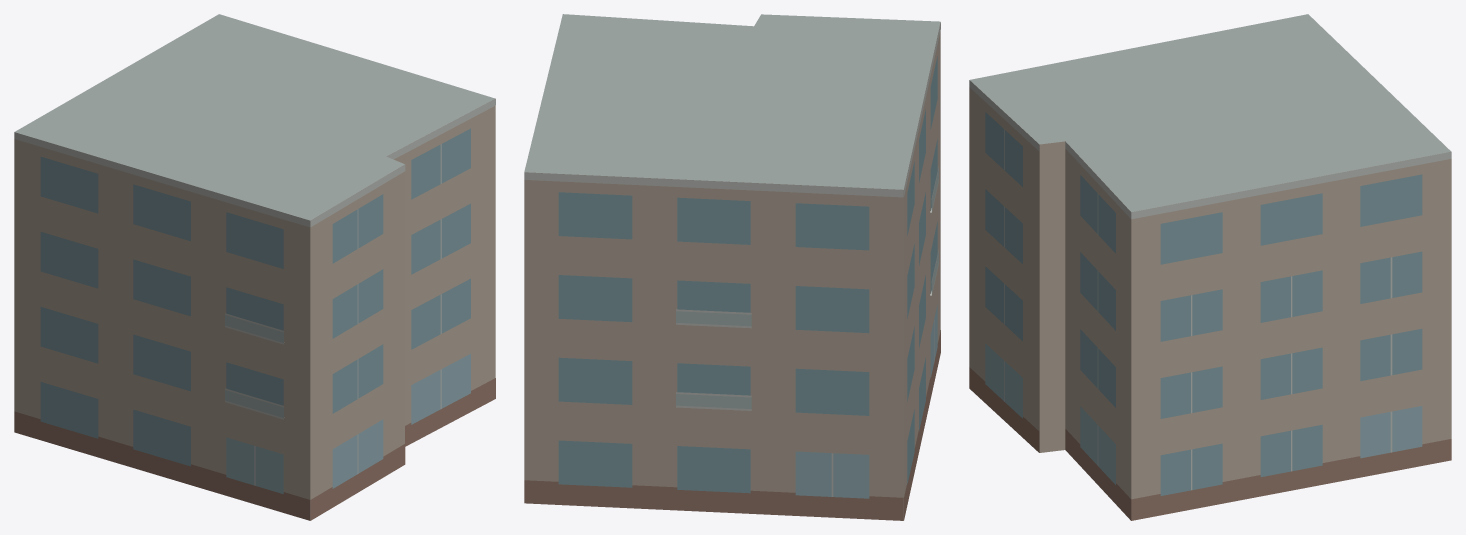
File: survey-upis-32679459.glb
The picture shows the model from 3 angles, left to right: view 1: azimuth 30°, elevation 25°; view 2: azimuth 150°, elevation 25°; view 3: azimuth 270°, elevation 25°; orthographic projection. The views are drawn at different scales.
Visible parts, largest first — view 1: survey-upis-32679459.tmp; view 2: survey-upis-32679459.tmp; view 3: survey-upis-32679459.tmp.
Boxes of the visible parts, x1,y1,x2,y2 form: survey-upis-32679459.tmp: (14,14,495,520); survey-upis-32679459.tmp: (524,14,940,520); survey-upis-32679459.tmp: (969,14,1451,520).
Bounding box in the file's own units: 14.69 × 10.65 × 15.09.
